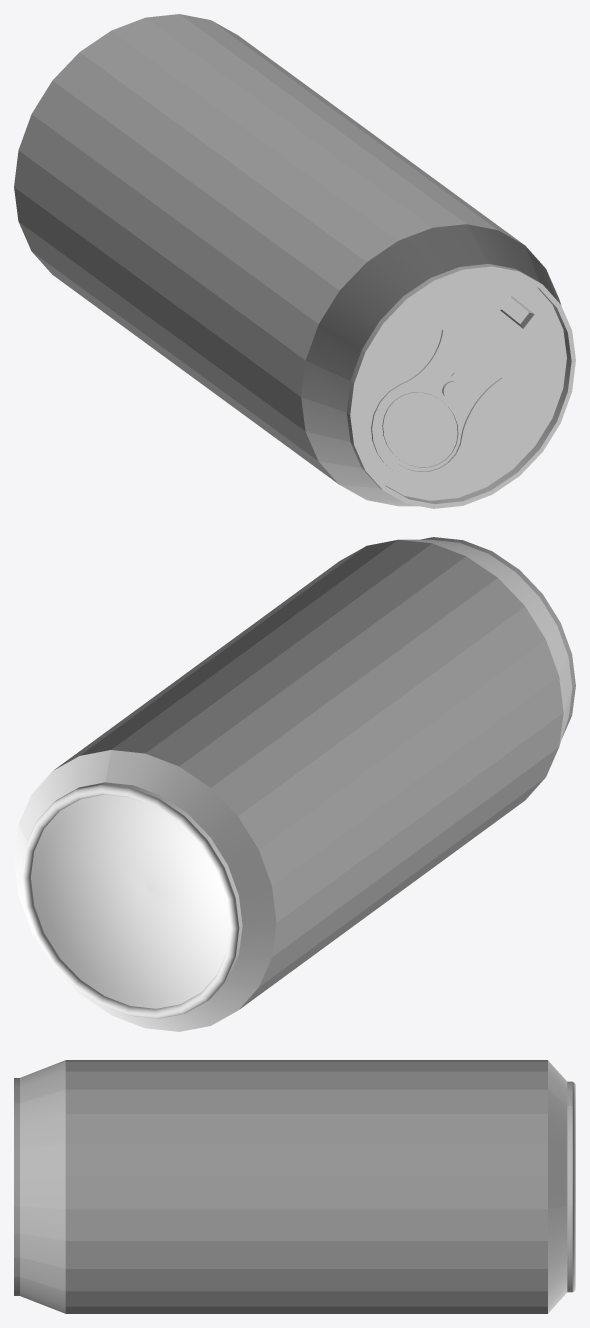
Rendered from model_scale.obj.
3 views of the same model, one above another, from view 1: azimuth 30°, elevation 25°; view 2: azimuth 150°, elevation 25°; view 3: azimuth 270°, elevation 25° (orthographic). The views are drawn at different scales.
Visible parts, largest first — view 1: mesh1_mesh1-geometry; view 2: mesh1_mesh1-geometry; view 3: mesh1_mesh1-geometry.
Part boxes in pixels (x1,y1,x2,y2): mesh1_mesh1-geometry: (14,14,575,508); mesh1_mesh1-geometry: (14,537,575,1031); mesh1_mesh1-geometry: (14,1060,575,1313).
Size of the model in its own units: 0.0632 by 0.0633 by 0.1396.
